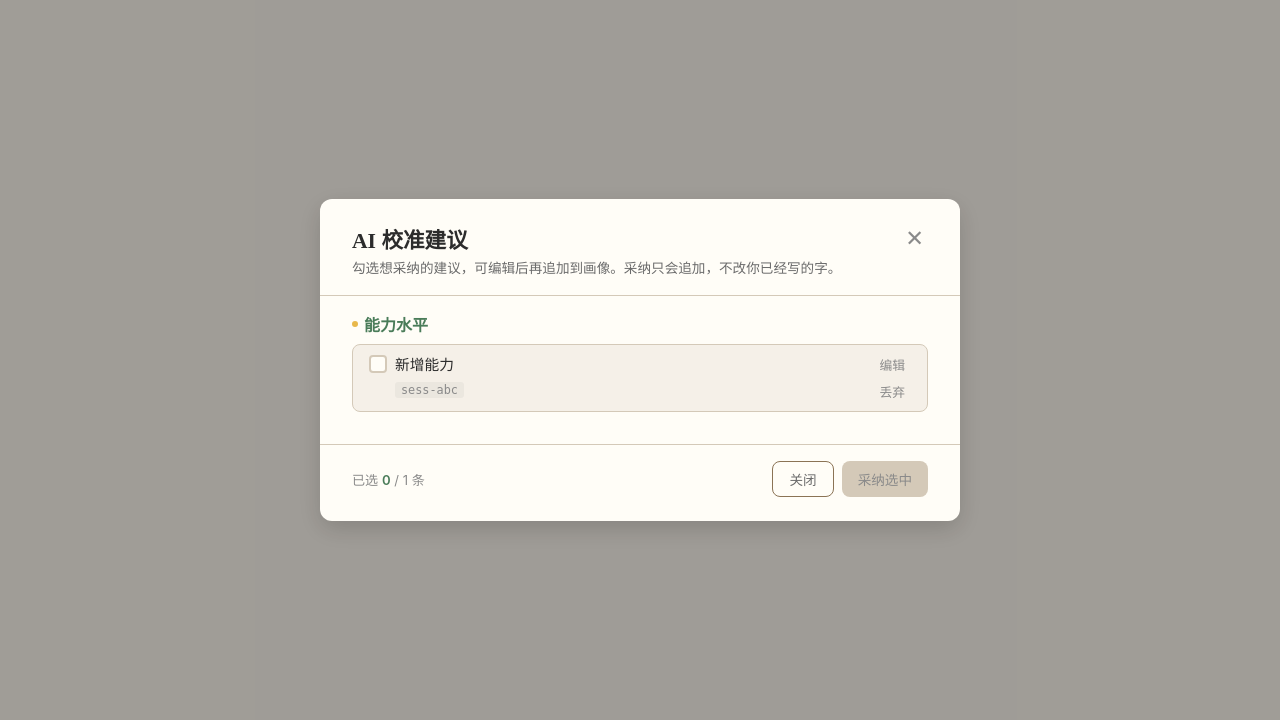
Scenario: SuggestionsModal › if a mark fails after PUT, body stays written + error shows + suggestion stays visible
Step 1. Click the button with test id "suggestion-check-s1" → (378, 364), box [369,355,387,373]
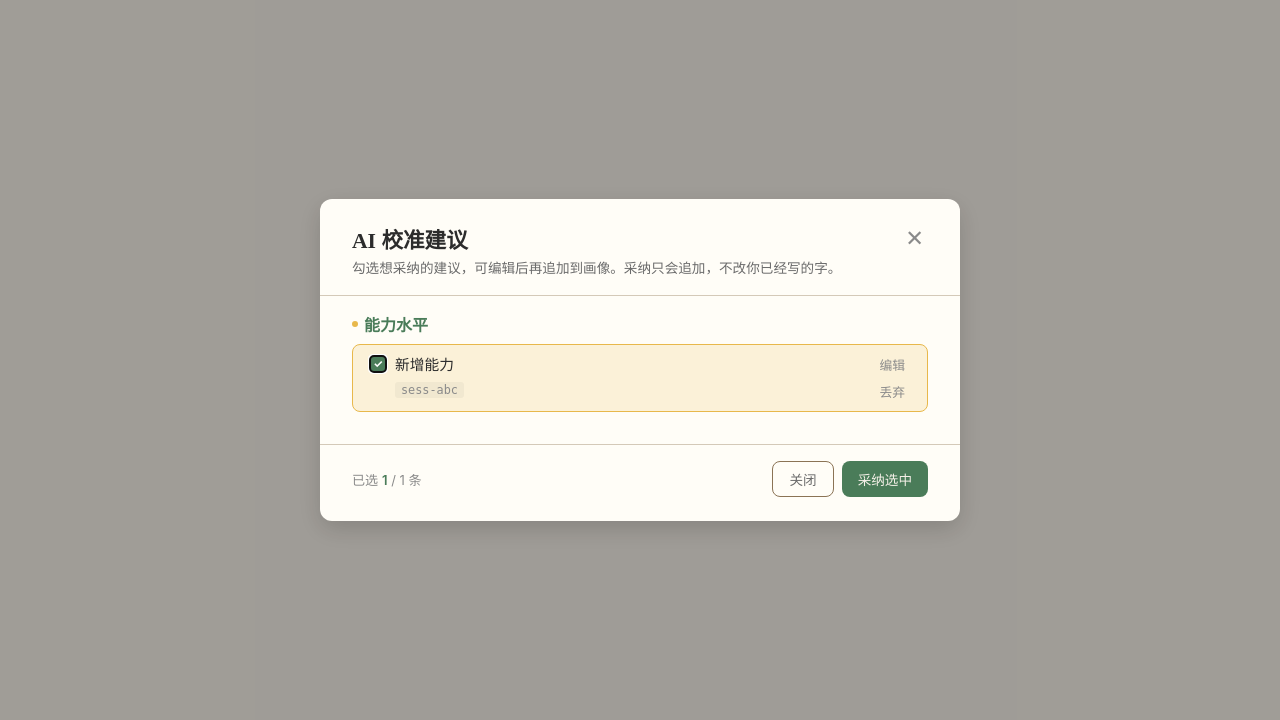
Step 2. Click the button with test id "suggestions-accept" → (885, 479), box [842,461,928,497]
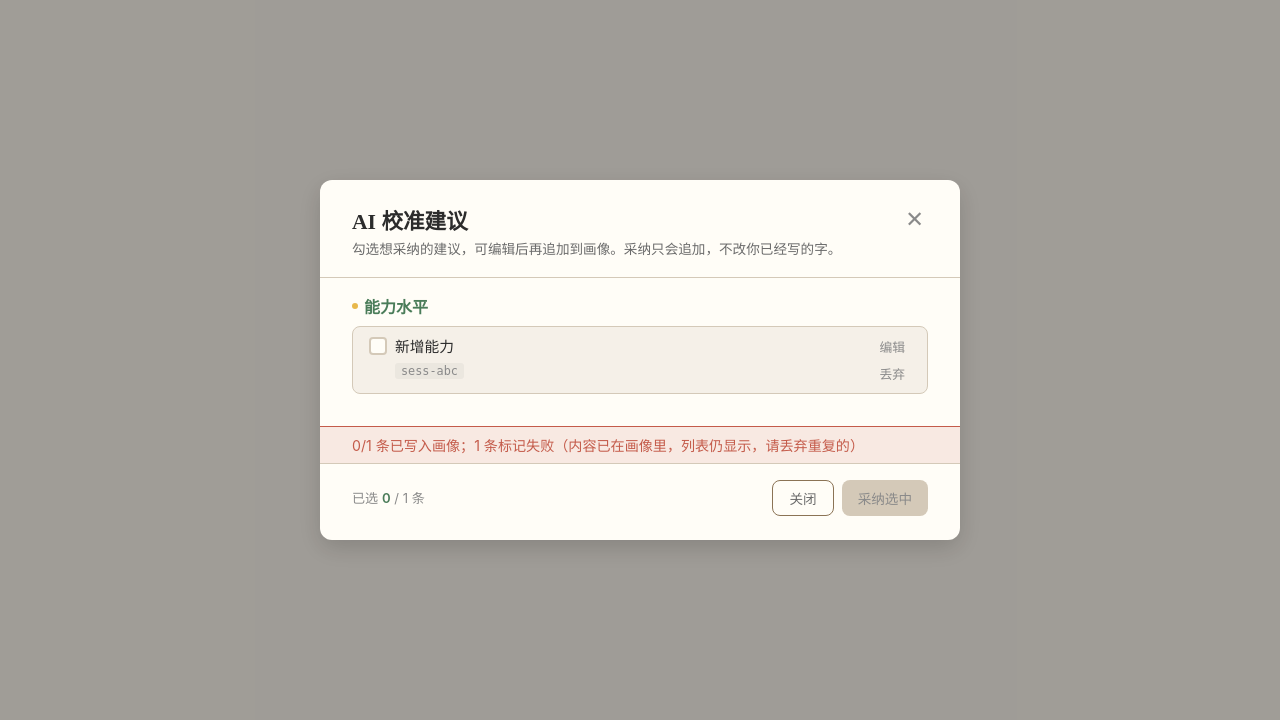
expect the text "新增能力" is shown: met, box [395,338,454,356]
expect the text "0/1 条已写入画像；1 条标记失败（内容已在画像里，列表仍显示，请丢弃重复的）" is shown: met, box [320,426,960,463]
